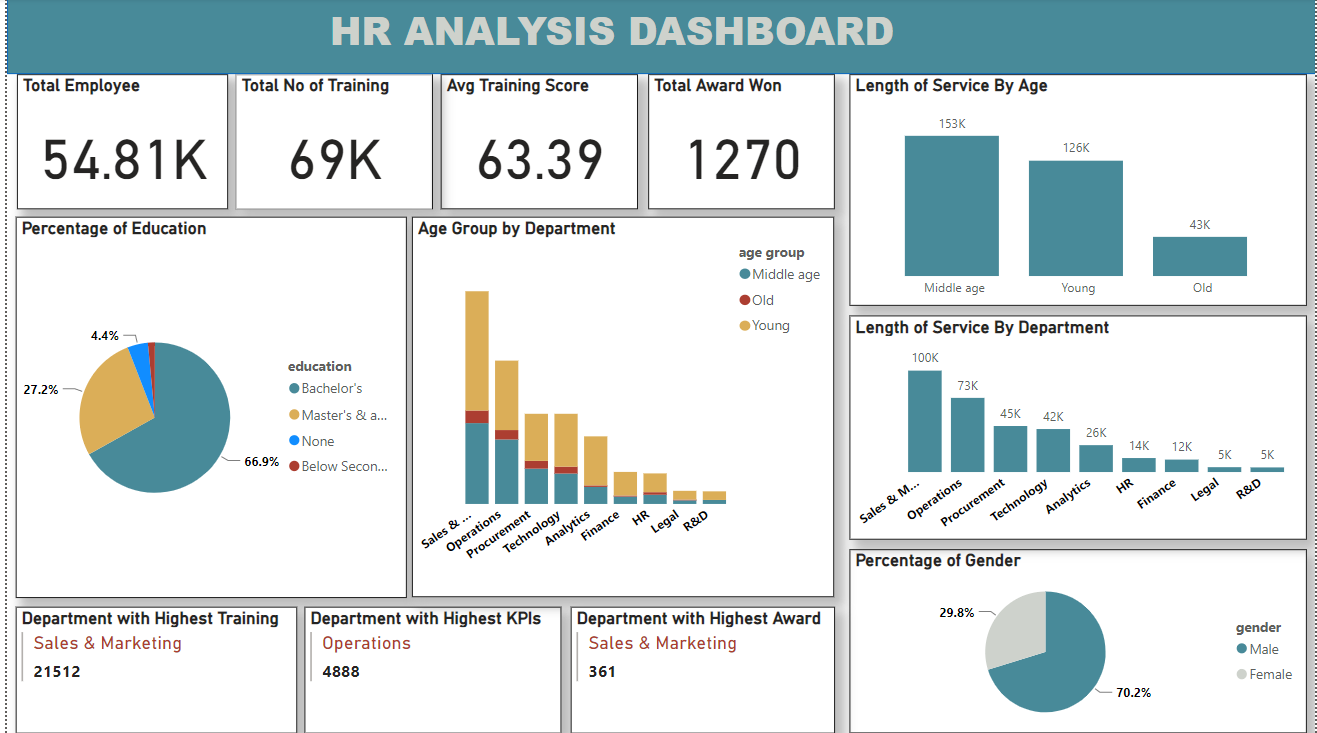

What the dashboard file says about the page in this screenshot:
{"tool":"powerbi","page":{"name":"Page 1","canvas":[1280,720],"ordinal":0},"visuals":[{"type":"card","title":"Total Employee","fields":{"Values":["CountNonNull(train.employee_id)"]},"box":[9.8,74.5,206.6,132.1],"z":0},{"type":"card","title":"Avg Training Score","fields":{"Values":["Avg(train.avg_training_score)"]},"box":[424.4,74.5,192.5,132.1],"z":1000},{"type":"card","title":"Total No of Training","fields":{"Values":["Sum(train.no_of_trainings)"]},"box":[223.5,74.5,192.5,132.1],"z":2000},{"type":"pieChart","title":"Percentage of Gender","fields":{"Y":["CountNonNull(train.gender)"],"Category":["train.gender"]},"box":[823.5,539.7,446.9,179.9],"z":3000},{"type":"pieChart","title":"Percentage of Education ","fields":{"Y":["CountNonNull(train.education)"],"Category":["train.education"]},"box":[8.4,213.6,382.3,372.4],"z":4000},{"type":"multiRowCard","title":"Department with Highest Training","fields":{"Values":["train.department","Sum(train.no_of_trainings)"]},"box":[8.4,595.9,275.5,123.7],"z":5000},{"type":"multiRowCard","title":"Department with Highest KPIs","fields":{"Values":["train.department","Sum(train.KPIs_met >80%)"]},"box":[290.9,595.9,251.6,123.7],"z":6000},{"type":"card","title":"Total Award Won","fields":{"Values":["Sum(train.awards_won?)"]},"box":[626.8,74.5,182.7,132.1],"z":7000},{"type":"columnChart","title":"Age Group by Department ","fields":{"Category":["train.department"],"Series":["train.age (groups)"],"Y":["CountNonNull(train.department)"]},"box":[395.8,214.1,412.7,371.8],"z":8000},{"type":"multiRowCard","title":"Department with Highest Award","fields":{"Values":["train.department","Sum(train.awards_won?)"]},"box":[550.9,595.9,258.6,123.7],"z":9000},{"type":"clusteredColumnChart","title":"Length of Service By Age","fields":{"Y":["Sum(train.length_of_service)"],"Category":["train.age (groups)"]},"box":[823.5,74.5,446.9,226.3],"z":10000},{"type":"clusteredColumnChart","title":"Length of Service By Department","fields":{"Y":["Sum(train.length_of_service)"],"Category":["train.department"]},"box":[823.5,310.6,446.9,219.2],"z":11000},{"type":"shape","box":[0,0,1280.3,74.5],"z":13000},{"type":"textbox","box":[272.6,0,638,74.5],"z":14000}]}

Visuals, with their boxes in screenshot pixels (x1, y1, x2, y2), scaled from the page's 1280x720 canvas onto the 1317x733 screenshot:
"Total Employee" card: [x1=10, y1=76, x2=223, y2=210]
"Avg Training Score" card: [x1=437, y1=76, x2=635, y2=210]
"Total No of Training" card: [x1=230, y1=76, x2=428, y2=210]
"Percentage of Gender" pieChart: [x1=847, y1=549, x2=1307, y2=732]
"Percentage of Education " pieChart: [x1=9, y1=217, x2=402, y2=597]
"Department with Highest Training" multiRowCard: [x1=9, y1=607, x2=292, y2=732]
"Department with Highest KPIs" multiRowCard: [x1=299, y1=607, x2=558, y2=732]
"Total Award Won" card: [x1=645, y1=76, x2=833, y2=210]
"Age Group by Department " columnChart: [x1=407, y1=218, x2=832, y2=596]
"Department with Highest Award" multiRowCard: [x1=567, y1=607, x2=833, y2=732]
"Length of Service By Age" clusteredColumnChart: [x1=847, y1=76, x2=1307, y2=306]
"Length of Service By Department" clusteredColumnChart: [x1=847, y1=316, x2=1307, y2=539]
shape: [x1=0, y1=0, x2=1316, y2=76]
textbox: [x1=280, y1=0, x2=937, y2=76]
